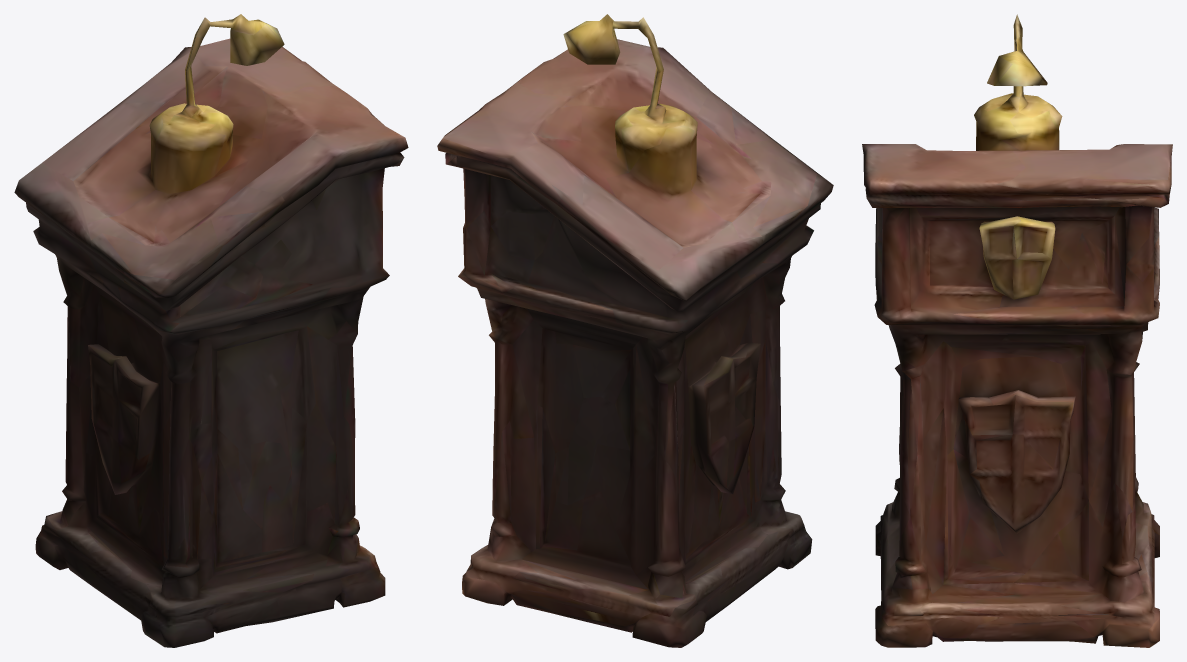
File: oak-lectern.glb
The picture shows the model from 3 angles, left to right: view 1: azimuth 30°, elevation 25°; view 2: azimuth 150°, elevation 25°; view 3: azimuth 270°, elevation 25°; orthographic projection. The views are drawn at different scales.
Parts seen in each view (by area): view 1: tripo_node_334c4464-aa9c-48dd-859f-cdb88805dd88; view 2: tripo_node_334c4464-aa9c-48dd-859f-cdb88805dd88; view 3: tripo_node_334c4464-aa9c-48dd-859f-cdb88805dd88.
Boxes of the visible parts, x1,y1,x2,y2 form: tripo_node_334c4464-aa9c-48dd-859f-cdb88805dd88: (14,14,408,647); tripo_node_334c4464-aa9c-48dd-859f-cdb88805dd88: (437,14,833,647); tripo_node_334c4464-aa9c-48dd-859f-cdb88805dd88: (862,14,1172,647).
Bounding box in the file's own units: 0.4733 × 1 × 0.4895.
Materials: 1 (1 with a texture image).
